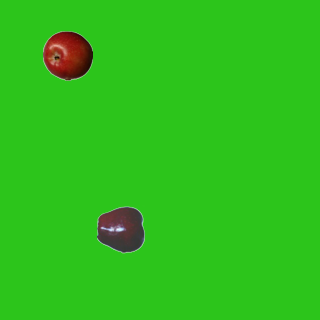Apple Braeburn: (42, 30, 92, 80)
Apple Red Delicious: (96, 204, 146, 254)
